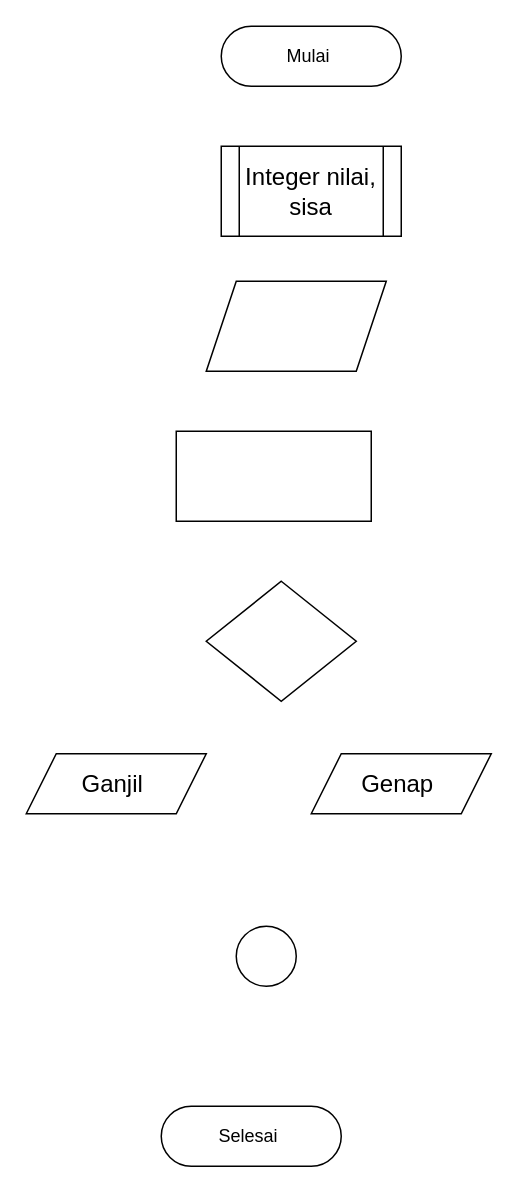
Some shapes in this 518 by 1193 pixel diagram are drawn without their labels. Here are the shapes that lost their labels. From the top down, the centre of each, then its label:
the point at 295,325: Input nilai
the point at 273,475: Sisa = nilai mod2
the point at 280,640: Sisa = 0
